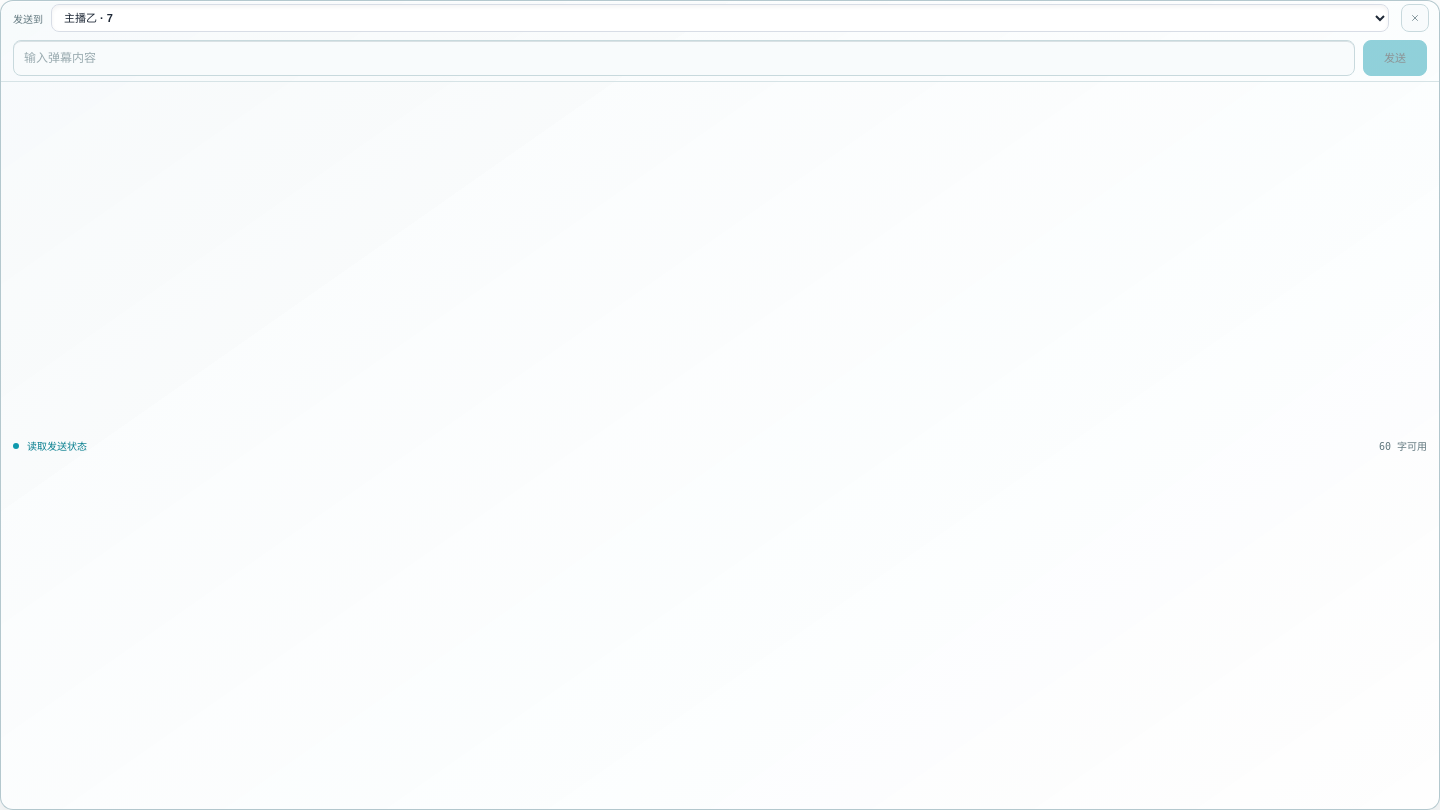
Scenario: ignores a late status response for the previous target after the user selects a new one
Select "主播甲 · 6" in the dropdown named "发送目标直播间" at (720, 18), box [51,4,1389,32]
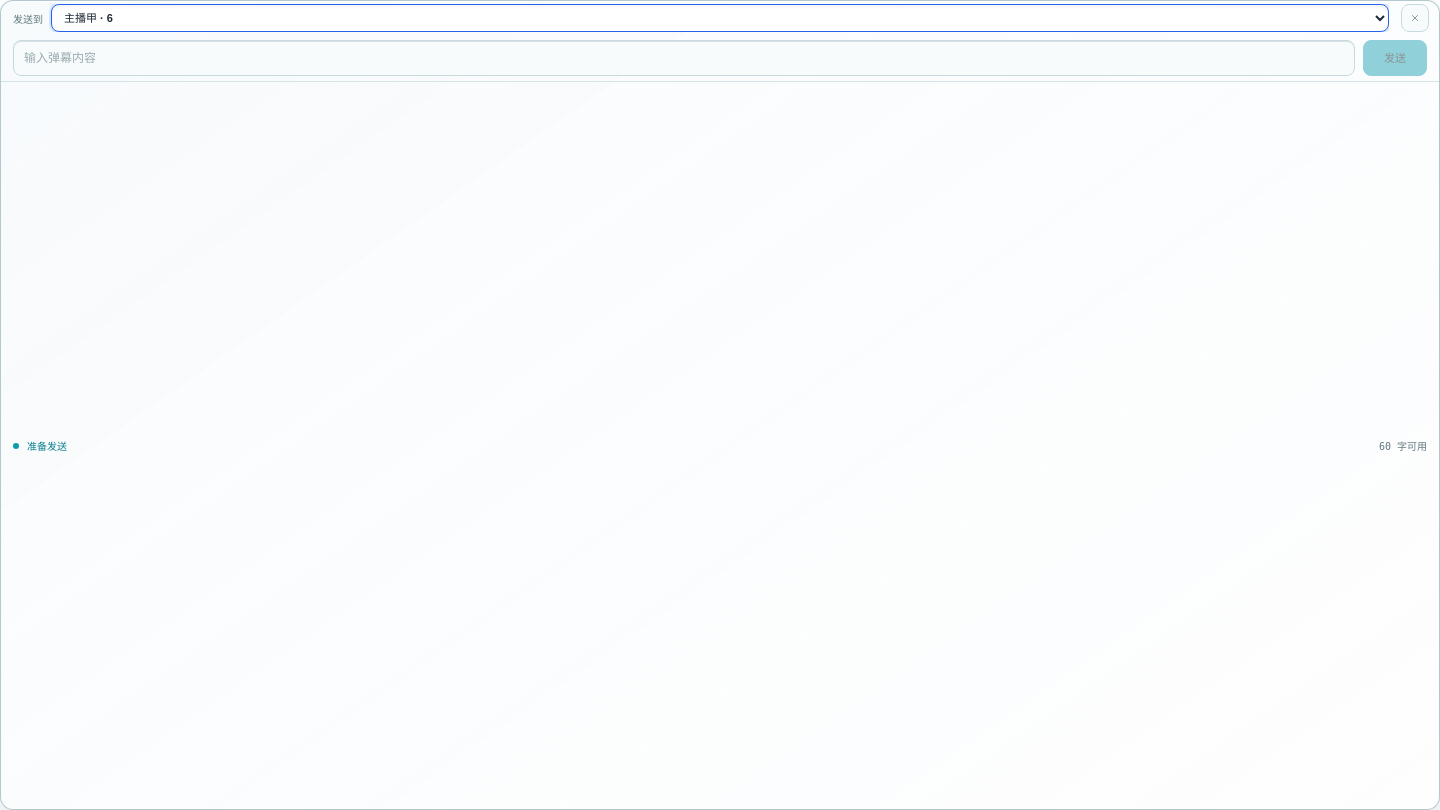
Now the message reads "准备发送", box [27,440,67,452]
